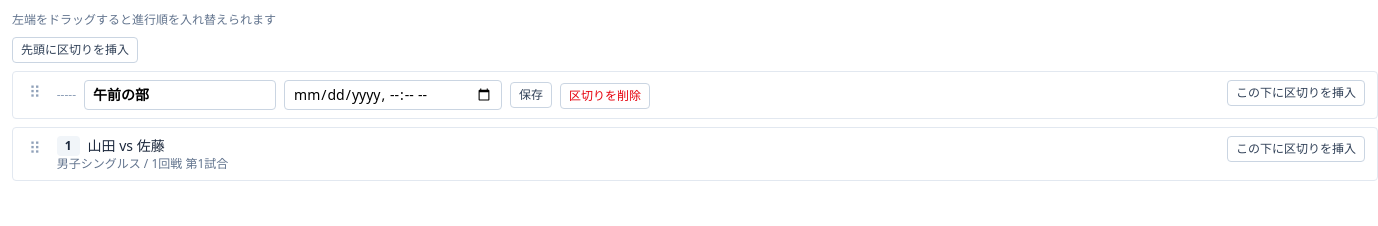
ScheduleList › 挿入に失敗したら理由を出す
This screenshot has width=1378, height=226.
Click the button "先頭に区切りを挿入".
click(75, 50)  # box [12, 37, 138, 63]
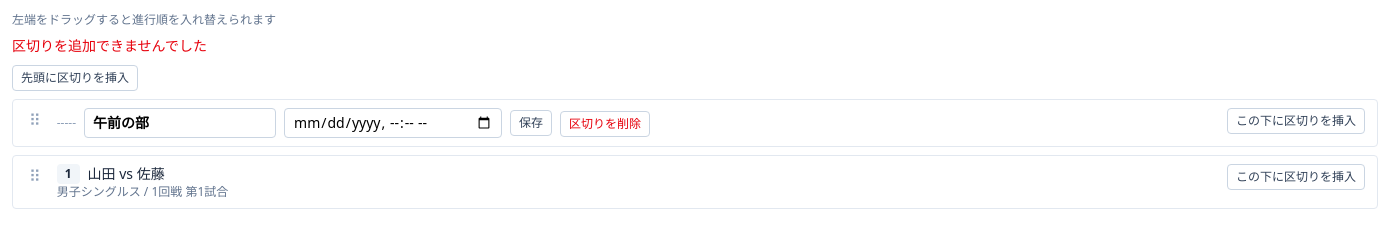
Check: the message reads "区切りを追加できませんでした", box [12, 36, 207, 55]
